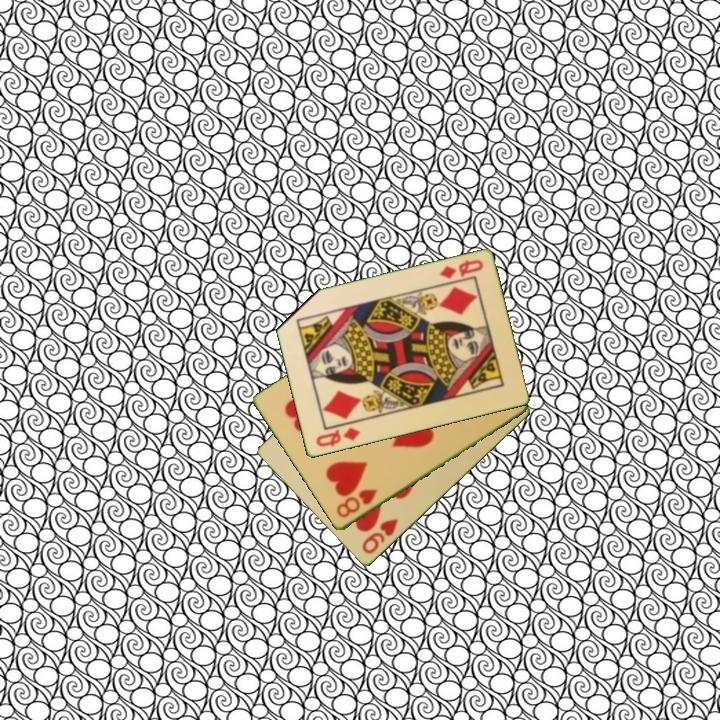8h: (333, 486, 380, 521)
9h: (358, 515, 401, 557)
Qd: (436, 256, 486, 283), (312, 424, 363, 450)
